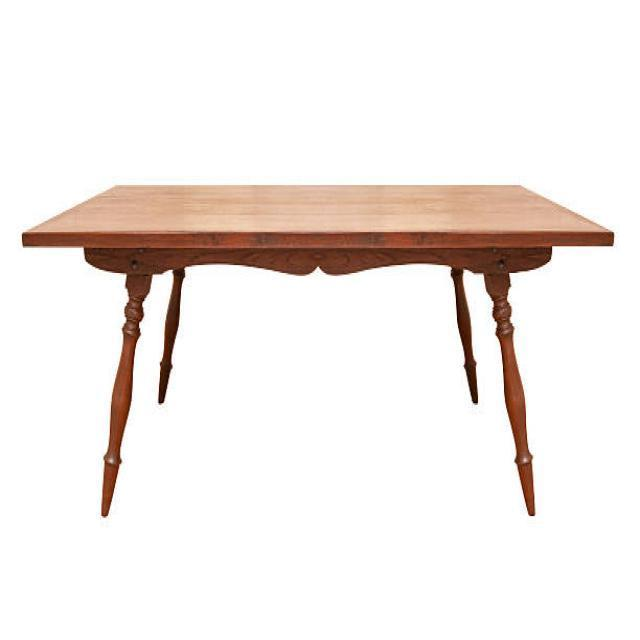table: (21, 182, 615, 520)
